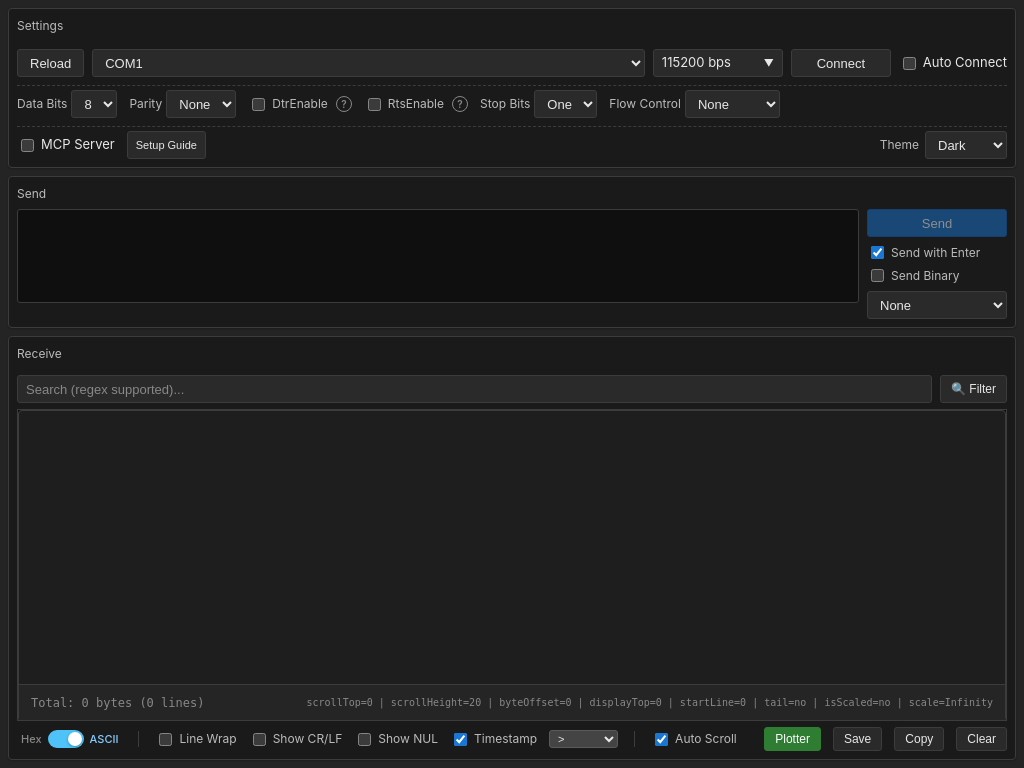
Test case: App › save and copy with timestamps › says there is nothing to copy or save when the capture is empty
Click the button "Copy" at (919, 739), box [894, 727, 944, 751]
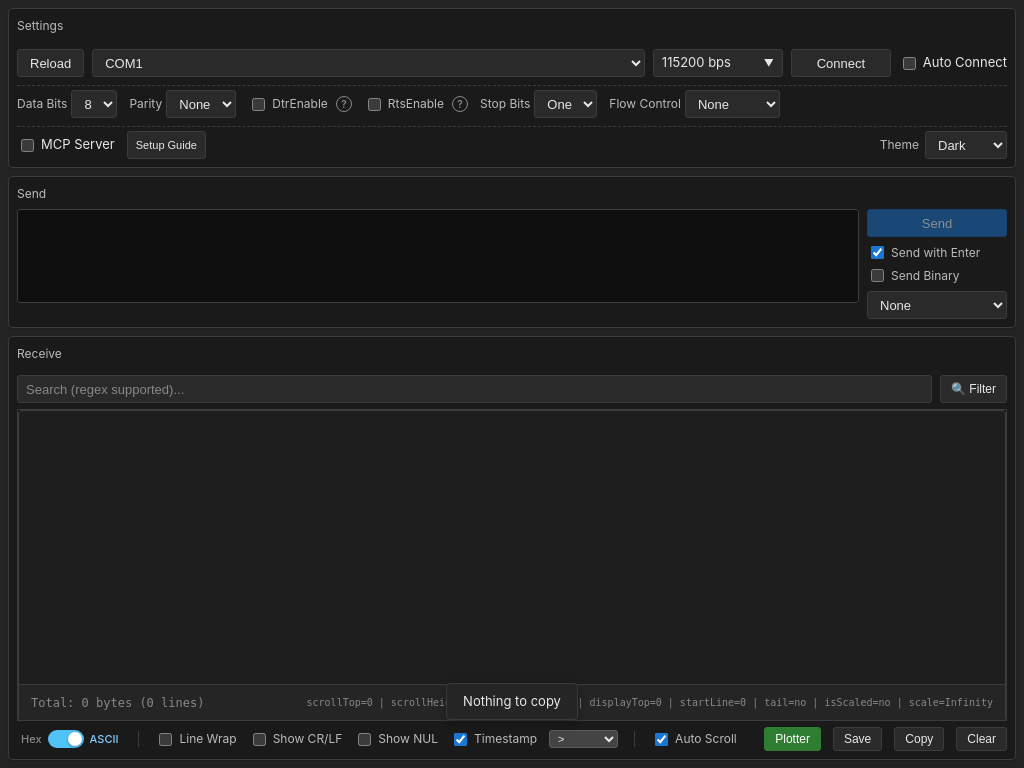
Check: the text "Nothing to copy" is shown, box [446, 682, 578, 720]
Click the button "Save" at (858, 739), box [833, 727, 882, 751]
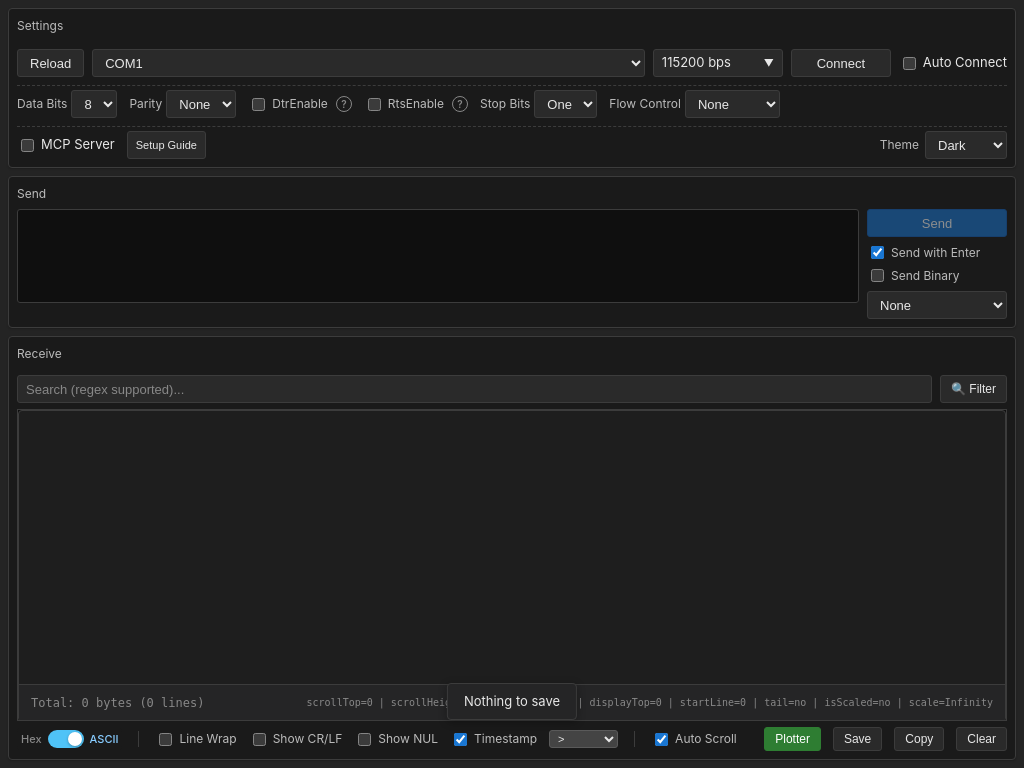
Check: the text "Nothing to save" is shown, box [447, 682, 577, 720]
